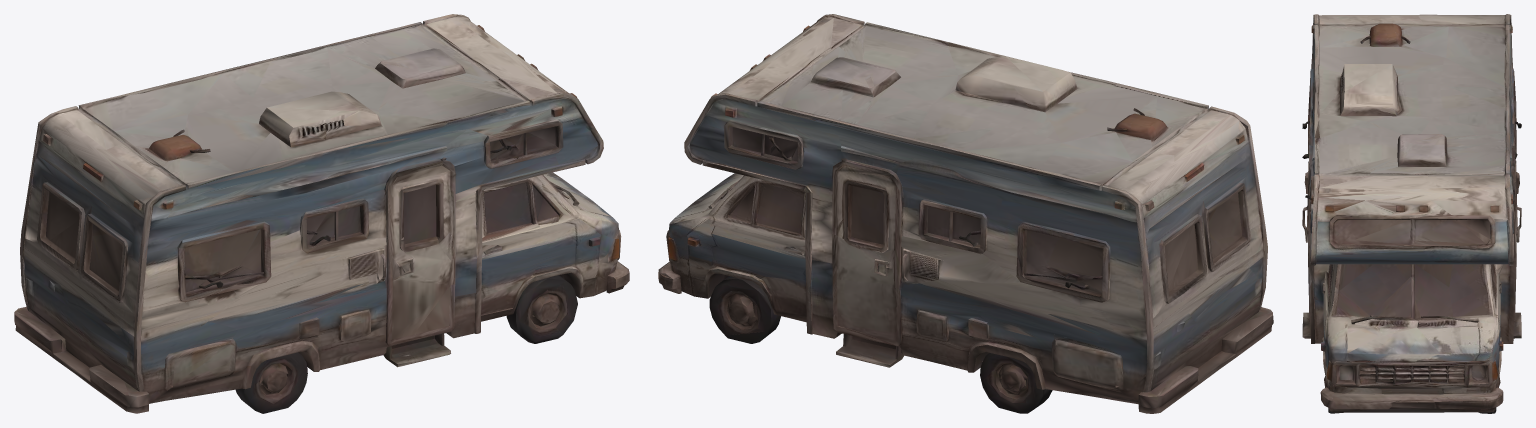
File: motorhome_idle.glb
3 views of the same model, side by side, from view 1: azimuth 30°, elevation 25°; view 2: azimuth 150°, elevation 25°; view 3: azimuth 270°, elevation 25° (orthographic). The views are drawn at different scales.
Parts seen in each view (by area): view 1: tripo_node_cdff9fcd-713a-4a98-8e7e-04acc9b1551b; view 2: tripo_node_cdff9fcd-713a-4a98-8e7e-04acc9b1551b; view 3: tripo_node_cdff9fcd-713a-4a98-8e7e-04acc9b1551b.
Part boxes in pixels (<box>): tripo_node_cdff9fcd-713a-4a98-8e7e-04acc9b1551b: <box>14,14,629,413</box>; tripo_node_cdff9fcd-713a-4a98-8e7e-04acc9b1551b: <box>658,14,1273,413</box>; tripo_node_cdff9fcd-713a-4a98-8e7e-04acc9b1551b: <box>1302,14,1521,413</box>.
Bounding box in the file's own units: 7 × 3.48 × 2.9.
Materials: 1 (1 with a texture image).
